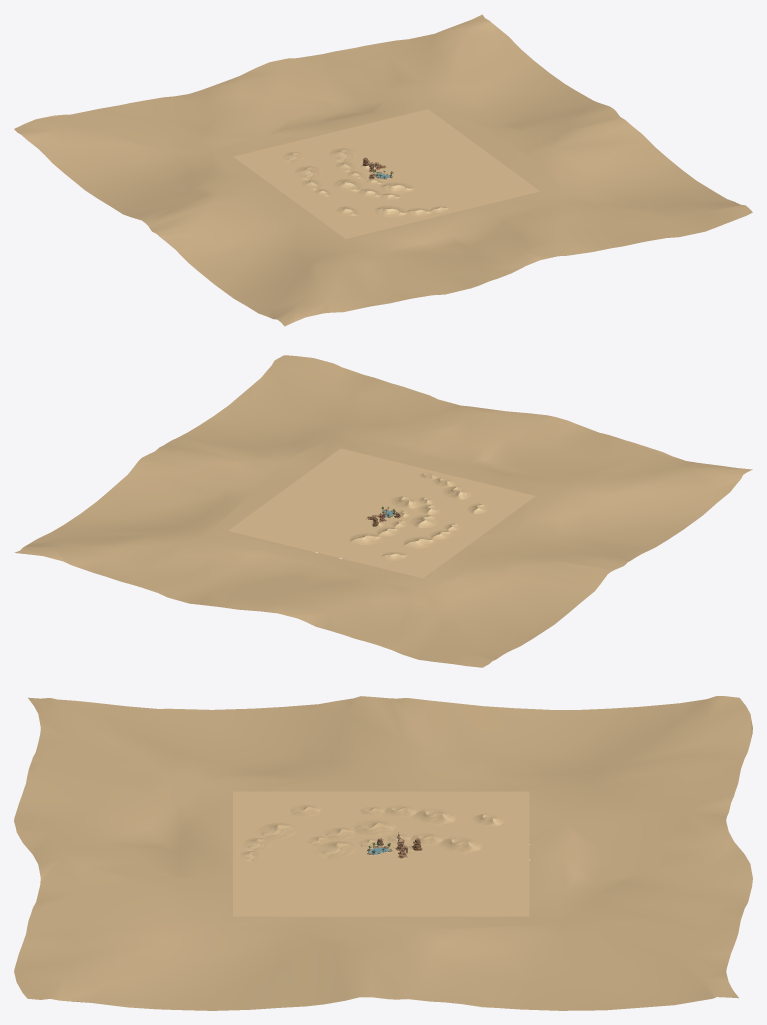
Rendered from narrowDesert.glb.
3 renders of one model, top to bottom at view 1: azimuth 30°, elevation 25°; view 2: azimuth 150°, elevation 25°; view 3: azimuth 270°, elevation 25°, orthographic. The views are drawn at different scales.
Visible parts, largest first — view 1: surroudingsDecor, floor.001; view 2: surroudingsDecor, floor.001; view 3: surroudingsDecor, floor.001, sandDune.017, sandDune.014, sandDune.004, sandDune.011, sandDune.007.
Boxes of the visible parts, x1,y1,x2,y2 form: surroudingsDecor: (14, 14, 752, 326); floor.001: (233, 109, 540, 238); surroudingsDecor: (14, 355, 752, 667); floor.001: (228, 448, 535, 578); surroudingsDecor: (14, 696, 752, 1010); floor.001: (233, 791, 529, 916); sandDune.017: (315, 840, 357, 859); sandDune.014: (411, 808, 457, 825); sandDune.004: (437, 836, 483, 853); sandDune.011: (254, 822, 298, 840); sandDune.007: (349, 820, 396, 835).
Size of what is drawn, in the model's own units: 1392 by 101 by 1434.
